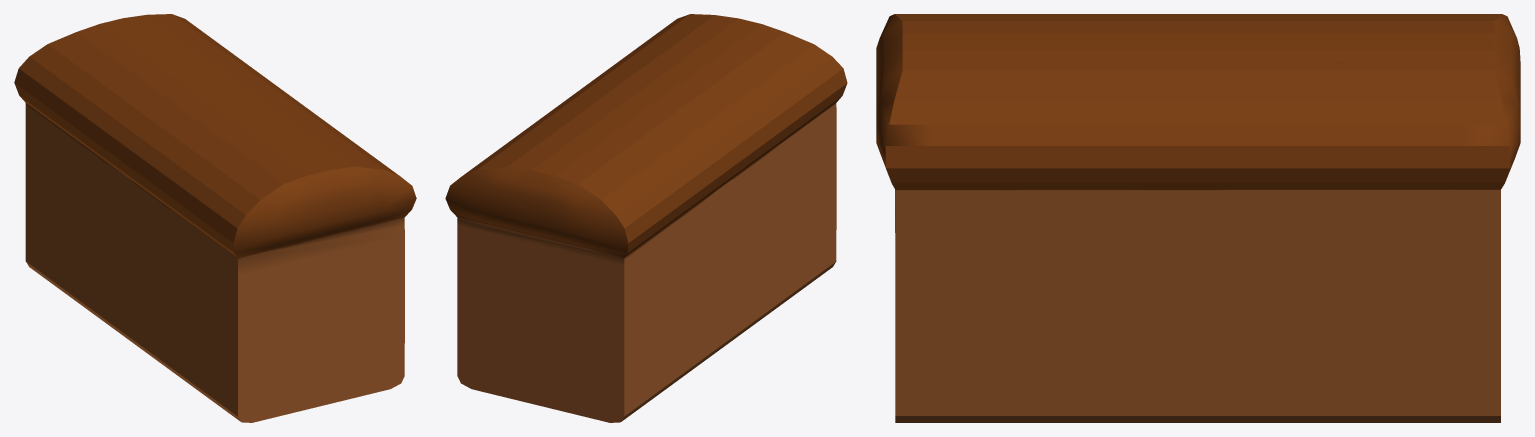
Rendered from pan.fbx.
3 views of the same model, side by side, from view 1: azimuth 30°, elevation 25°; view 2: azimuth 150°, elevation 25°; view 3: azimuth 270°, elevation 25° (orthographic). The views are drawn at different scales.
Parts seen in each view (by area): view 1: Box002; view 2: Box002; view 3: Box002.
Part boxes in pixels (left/top/right/bottom): Box002: left=14, top=14, right=416, bottom=422; Box002: left=445, top=14, right=847, bottom=422; Box002: left=876, top=14, right=1520, bottom=422.
Bounding box in the file's own units: 159 × 192 × 340.
1 material, 1 textured.
